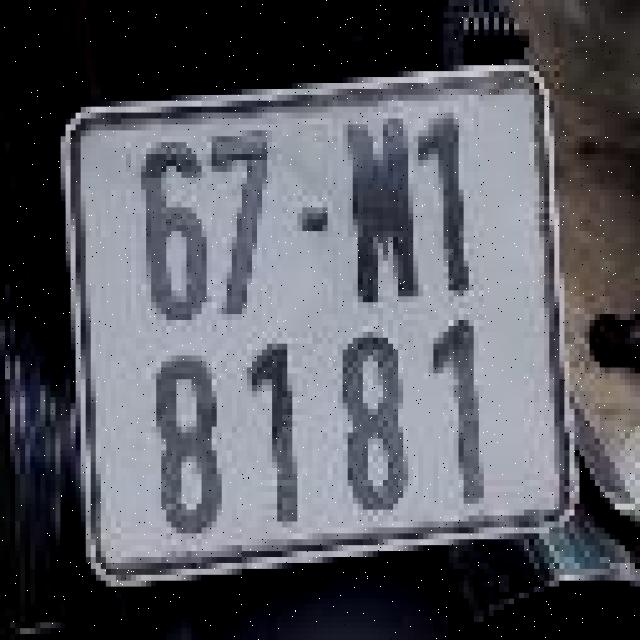1: (418, 104, 494, 299), (431, 314, 501, 522), (237, 332, 307, 533)
6: (126, 130, 212, 326)
7: (209, 121, 285, 329)
8: (328, 323, 418, 518), (146, 347, 232, 530)
M: (335, 113, 421, 314)
